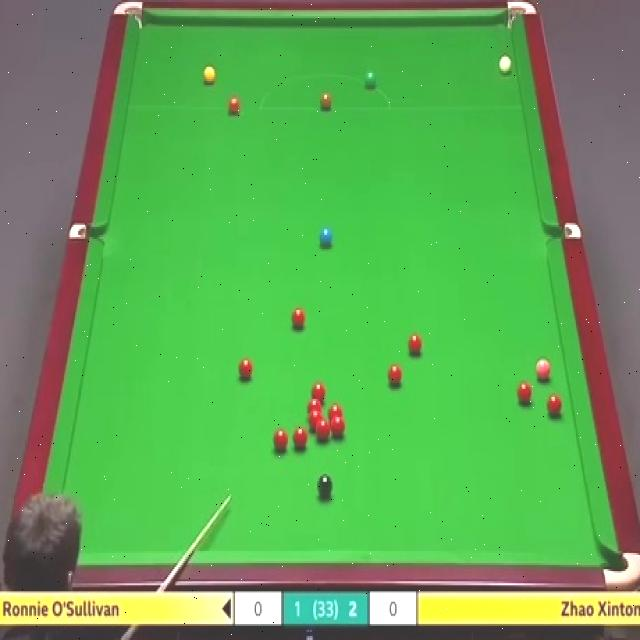black-ball: (316, 474, 333, 496)
blue-ball: (321, 227, 334, 247)
brown-ball: (318, 92, 332, 111)
green-ball: (365, 68, 376, 89)
pink-ball: (534, 358, 553, 382)
red-ball: (272, 427, 290, 452), (517, 379, 532, 405), (291, 306, 306, 331), (546, 393, 562, 416), (293, 426, 308, 450), (407, 332, 422, 355), (387, 363, 402, 386), (332, 414, 346, 438), (238, 356, 252, 379), (311, 381, 325, 403), (227, 95, 241, 117), (306, 398, 322, 416), (317, 419, 330, 441), (309, 410, 322, 430), (328, 402, 344, 418)
white-ball: (500, 54, 512, 76)
yellow-ball: (203, 66, 215, 87)
